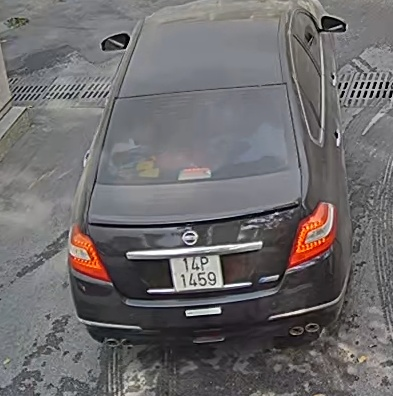vehicle plate: (164, 251, 224, 292)
